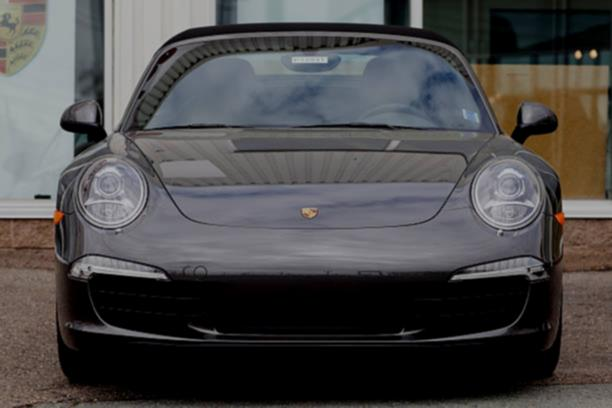porsche: (294, 200, 324, 226)
